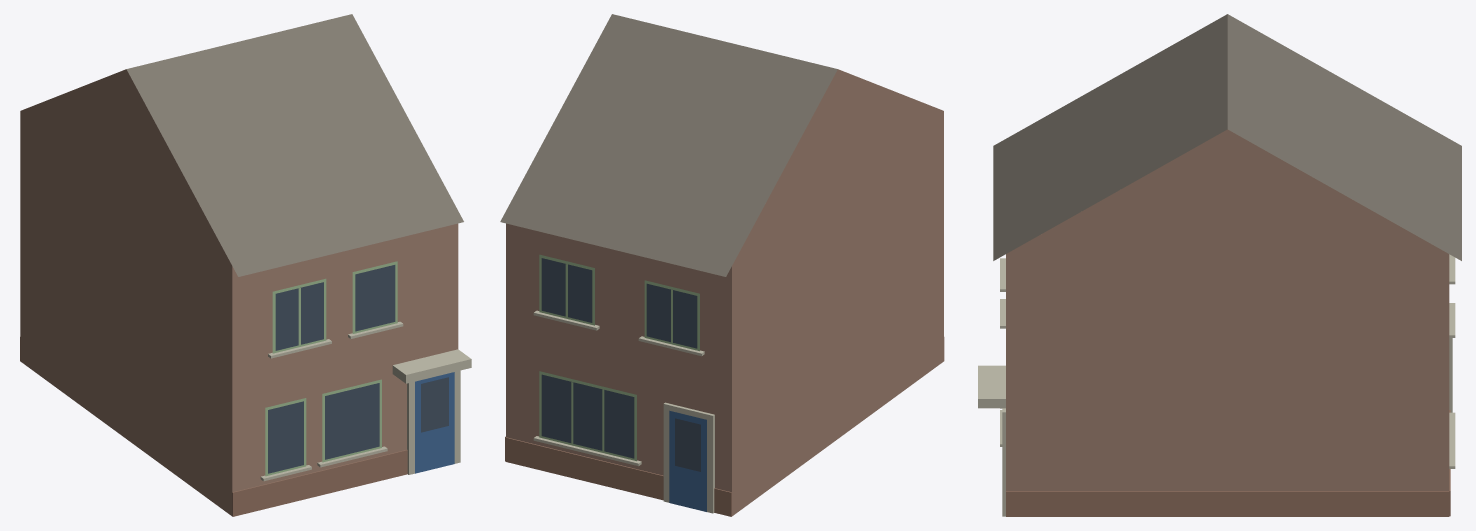
The model's file is zo-rb-pair-door__red__2__gable__long__solid__mirror.glb.
3 renders of one model, left to right at view 1: azimuth 30°, elevation 25°; view 2: azimuth 150°, elevation 25°; view 3: azimuth 270°, elevation 25°, orthographic. The views are drawn at different scales.
Parts seen in each view (by area): view 1: zo-rb-pair-door__red__2__gable__long__solid__mirror; view 2: zo-rb-pair-door__red__2__gable__long__solid__mirror; view 3: zo-rb-pair-door__red__2__gable__long__solid__mirror.
Part boxes in pixels (bbox=[...]): zo-rb-pair-door__red__2__gable__long__solid__mirror: bbox=[20, 14, 471, 516]; zo-rb-pair-door__red__2__gable__long__solid__mirror: bbox=[500, 14, 944, 516]; zo-rb-pair-door__red__2__gable__long__solid__mirror: bbox=[978, 14, 1461, 516].
Bounding box in the file's own units: 5.4 × 8.41 × 9.53.
